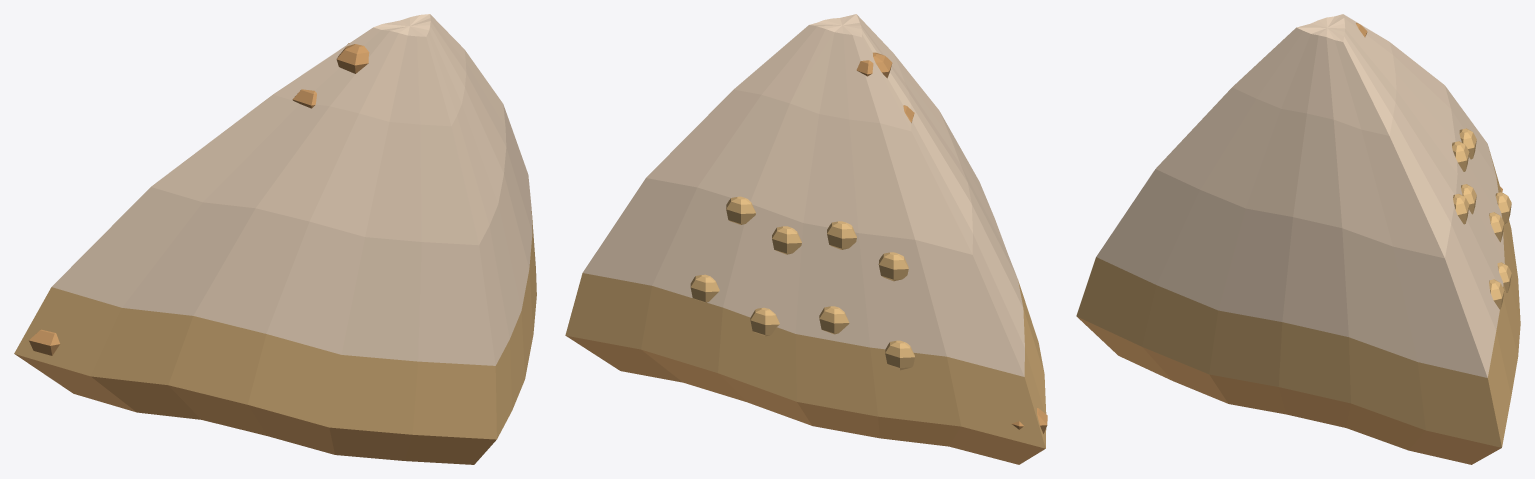
Rendered from raw.obj.
3 renders of one model, left to right at view 1: azimuth 30°, elevation 25°; view 2: azimuth 150°, elevation 25°; view 3: azimuth 270°, elevation 25°, orthographic. The views are drawn at different scales.
Visible parts, largest first — view 1: raw; view 2: raw; view 3: raw.
Part boxes in pixels (x1,y1,x2,y2): raw: (14, 14, 536, 464); raw: (565, 14, 1047, 464); raw: (1076, 14, 1520, 464).
Bounding box in the file's own units: 0.604 × 0.4034 × 0.453.
